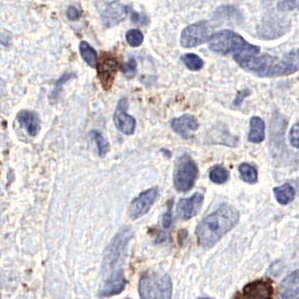Lymphocyte: (96, 51, 121, 89)
